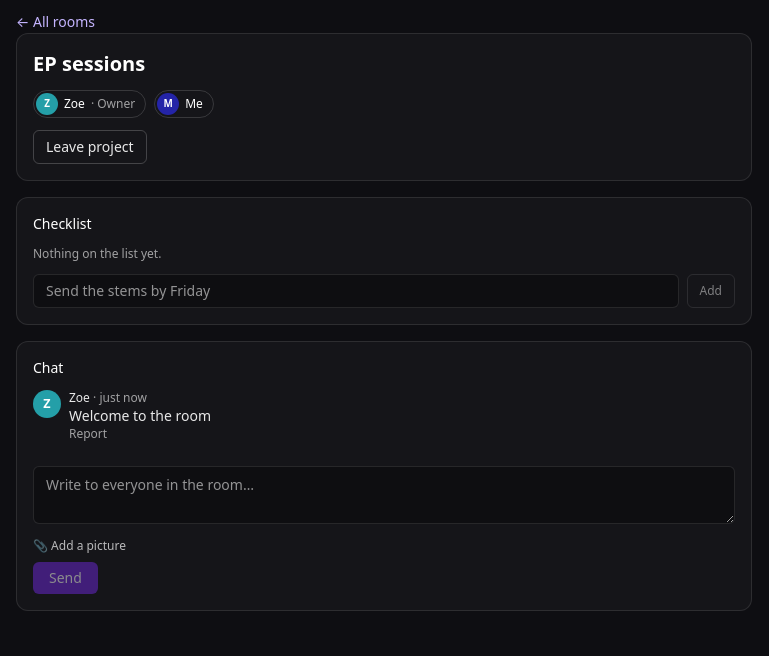
Test: ProjectPage: a member › says why a message wasn't sent and keeps what was written
expect the text "Welcome to the room" is shown: met, box [69,406,211,425]
In the text box named "Write a message": (384, 495) [33,466,735,524], type "Hello"
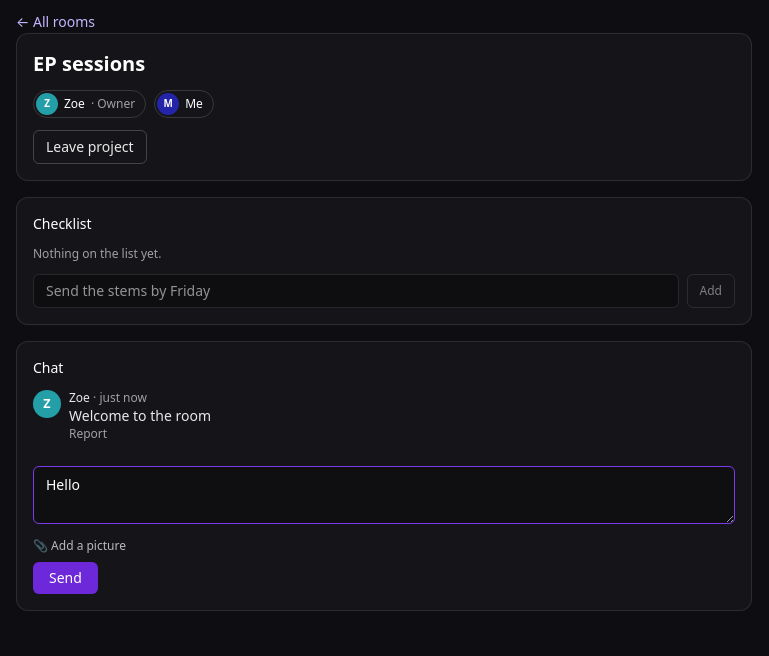
Click the button "Send": (65, 578) [33,562,98,594]
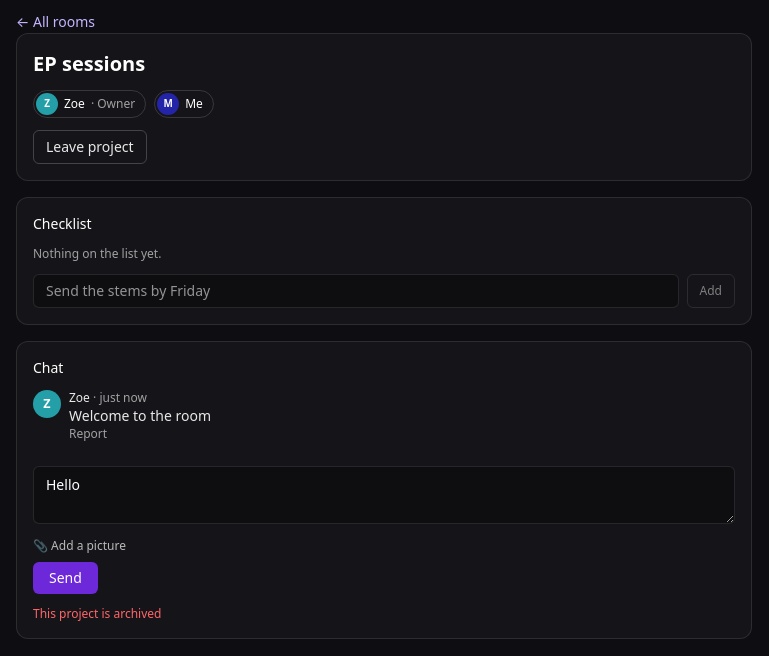
expect the message shows "archived": met, box [33,605,161,622]
